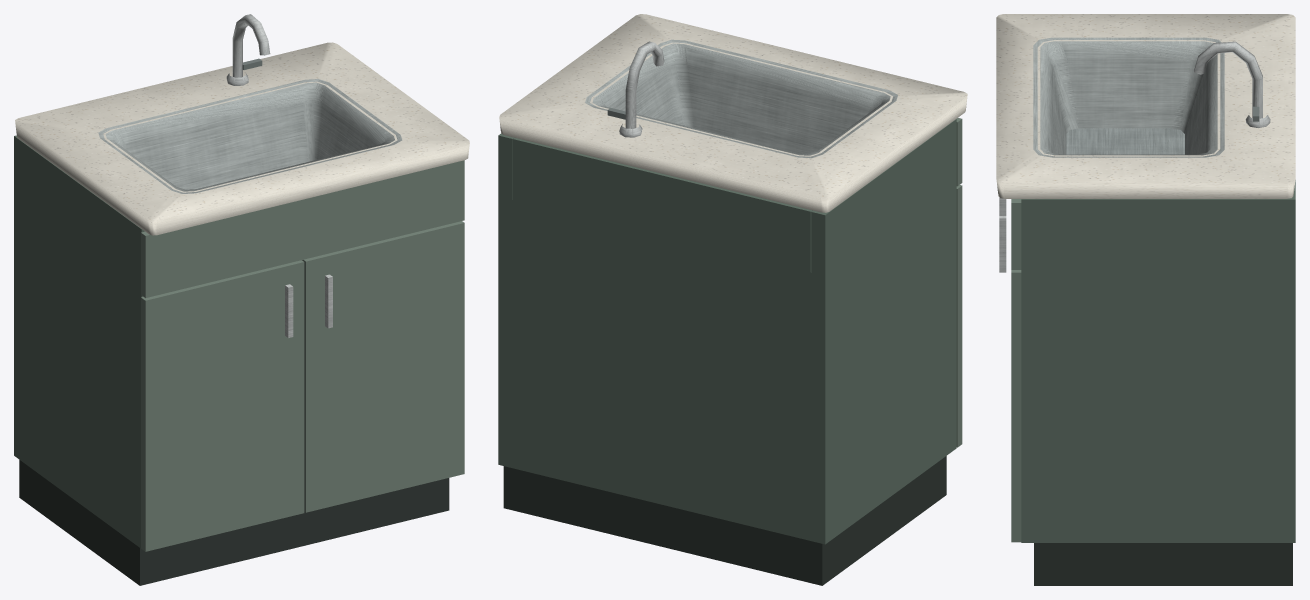
Rendered from kitchen_sink_cabinet.glb.
3 renders of one model, left to right at view 1: azimuth 30°, elevation 25°; view 2: azimuth 150°, elevation 25°; view 3: azimuth 270°, elevation 25°, orthographic. The views are drawn at different scales.
Visible parts, largest first — view 1: kitchen_sink_cabinet; view 2: kitchen_sink_cabinet; view 3: kitchen_sink_cabinet.
Part boxes in pixels (left/top/right/bottom): kitchen_sink_cabinet: left=14, top=14, right=469, bottom=585; kitchen_sink_cabinet: left=498, top=14, right=967, bottom=585; kitchen_sink_cabinet: left=996, top=14, right=1295, bottom=585.
Bounding box in the file's own units: 0.8 × 1.08 × 0.6.
3 materials, 2 textured.
